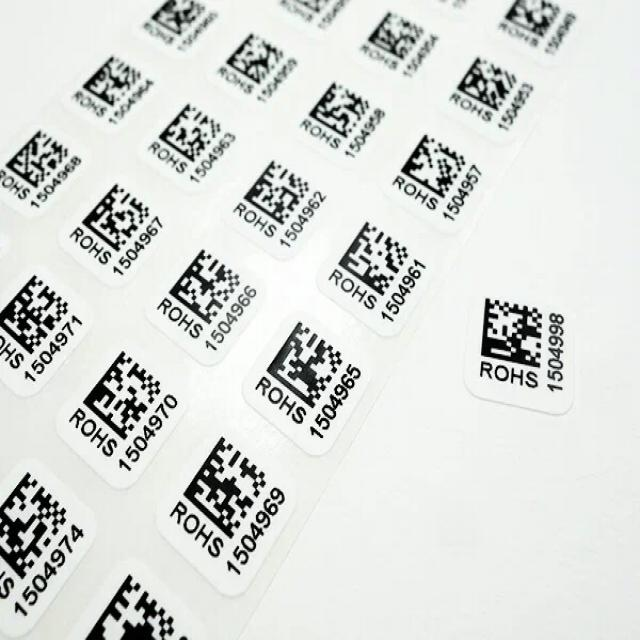datamatrix: (184, 435, 269, 541), (2, 471, 69, 583), (266, 318, 345, 411), (84, 349, 163, 441), (83, 571, 188, 640), (170, 246, 244, 326), (2, 272, 71, 356), (339, 220, 410, 297), (480, 296, 547, 371), (83, 181, 152, 253), (244, 157, 311, 226), (402, 133, 468, 200), (160, 102, 224, 164), (7, 129, 71, 189), (309, 80, 372, 140), (459, 55, 518, 113), (83, 54, 142, 108), (228, 33, 285, 87), (368, 10, 426, 62), (506, 1, 561, 38), (153, 1, 207, 37)
